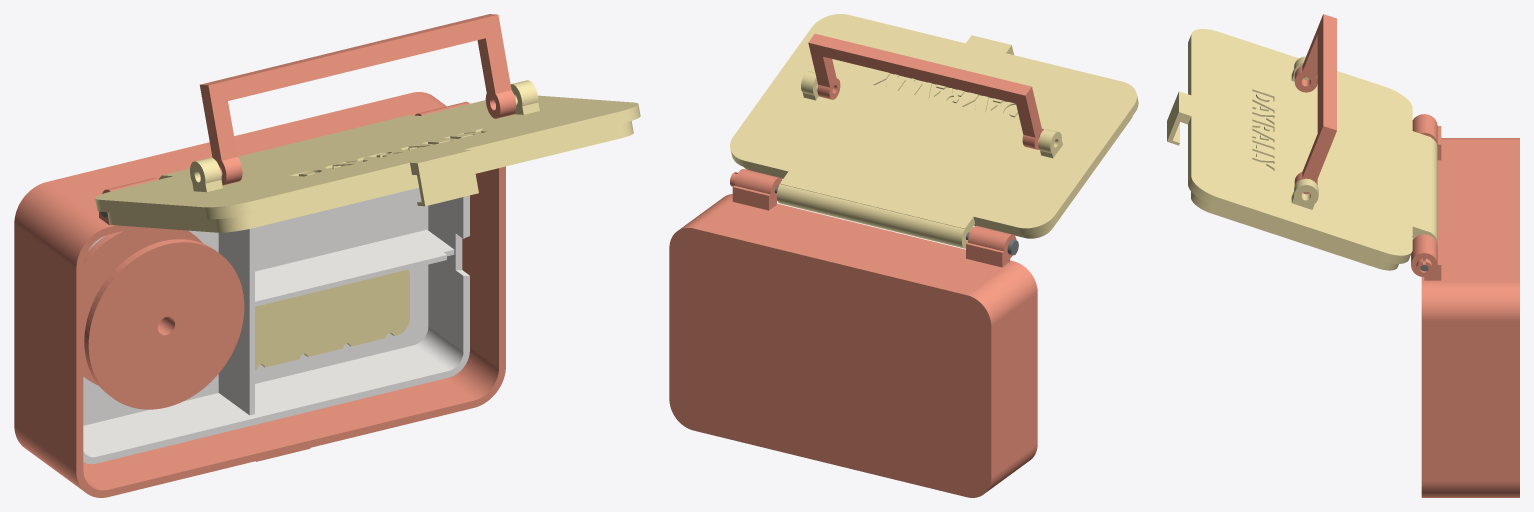
The model's file is dayrally-case-open.glb.
3 views of the same model, side by side, from view 1: azimuth 30°, elevation 25°; view 2: azimuth 150°, elevation 25°; view 3: azimuth 270°, elevation 25° (orthographic). The views are drawn at different scales.
Visible parts, largest first — view 1: rally-case__1, rally-removable-tray__2, rally-lid__5, rally-line-spool__7, rally-folding-handle__6, rally-leader-card__8; view 2: rally-case__1, rally-lid__5, rally-folding-handle__6; view 3: rally-lid__5, rally-case__1, rally-folding-handle__6.
Part boxes in pixels (bbox=[...]): rally-case__1: bbox=[14, 92, 505, 497]; rally-removable-tray__2: bbox=[83, 187, 469, 464]; rally-lid__5: bbox=[95, 80, 640, 232]; rally-line-spool__7: bbox=[83, 227, 244, 409]; rally-folding-handle__6: bbox=[200, 14, 516, 185]; rally-leader-card__8: bbox=[255, 269, 409, 369]; rally-case__1: bbox=[669, 169, 1037, 497]; rally-lid__5: bbox=[730, 14, 1138, 248]; rally-folding-handle__6: bbox=[808, 33, 1043, 149]; rally-lid__5: bbox=[1167, 29, 1437, 270]; rally-case__1: bbox=[1411, 114, 1519, 497]; rally-folding-handle__6: bbox=[1294, 14, 1336, 194].
Bounding box in the file's own units: 0.16 × 0.1625 × 0.1438.
